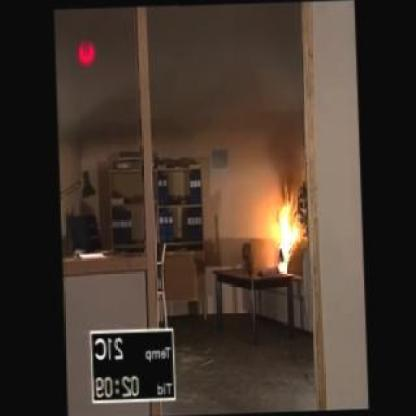Fire: (272, 179, 300, 277)
